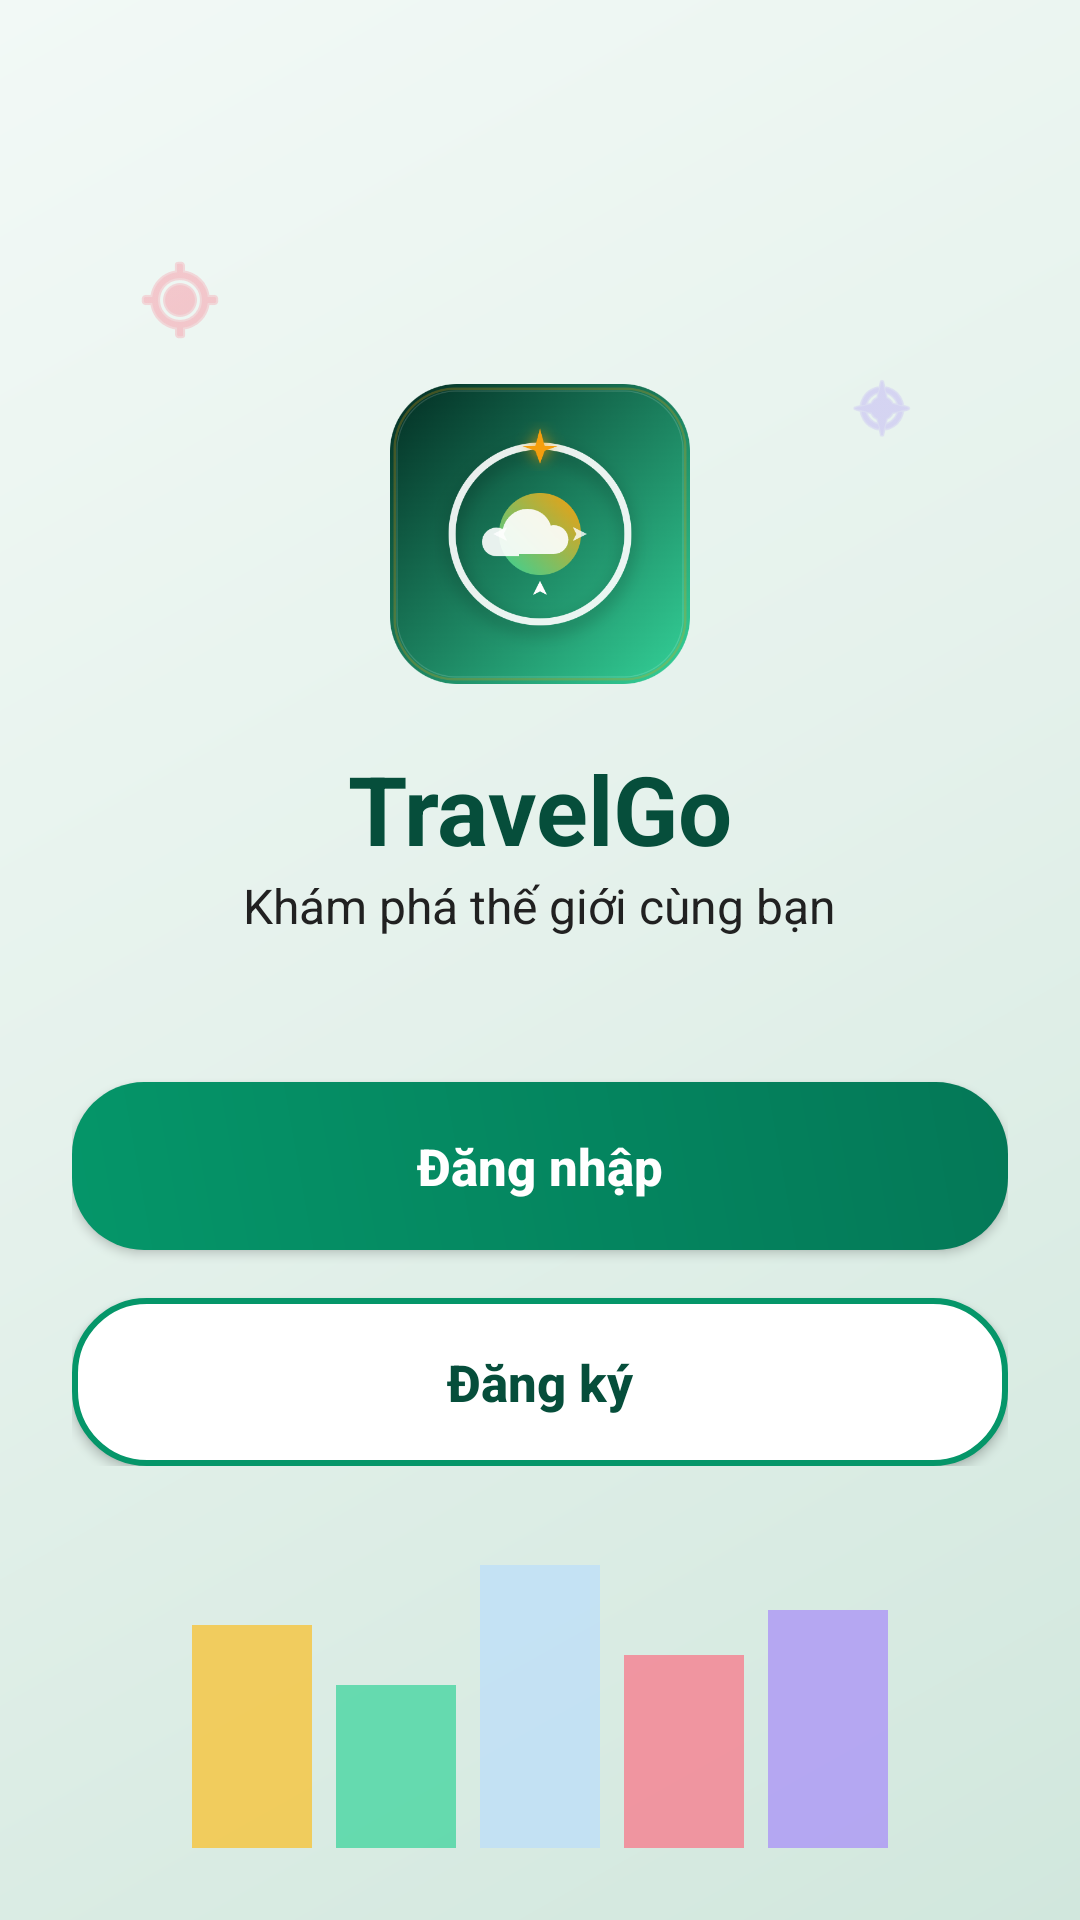

Screen size 1080px x 1920px. Icon name, then its center in pixels as point (x, y):
mylocation: point (180, 300)
